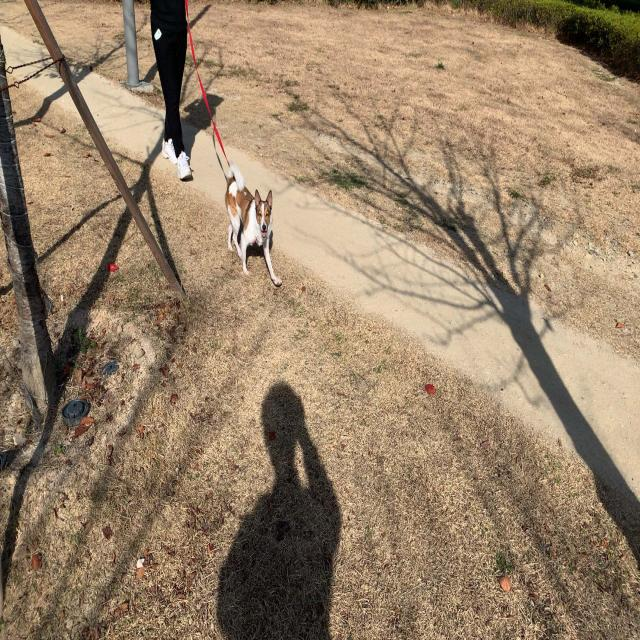Leashed_Dog: (170, 0, 285, 291)
